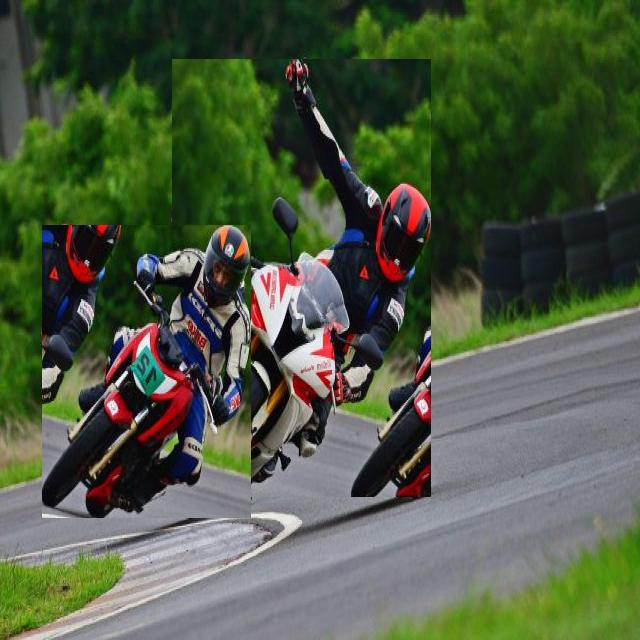motorcycle: (172, 60, 431, 497), (42, 226, 251, 518)
